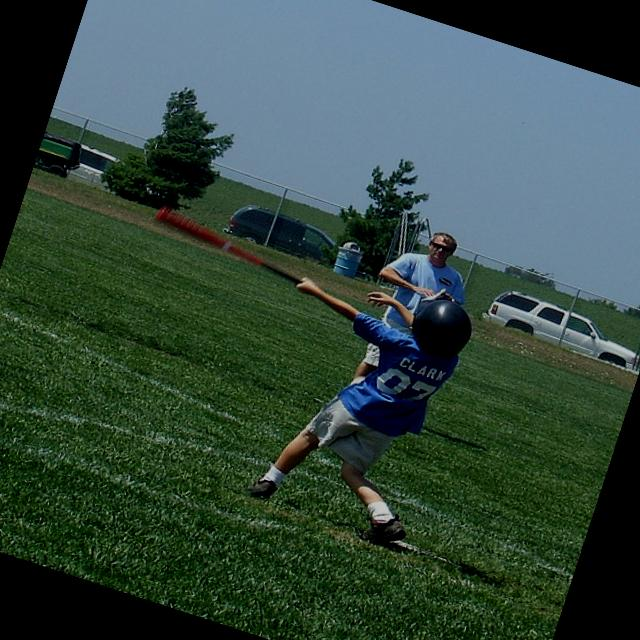Vehicle: (479, 282, 640, 372), (481, 283, 640, 370), (218, 193, 344, 271), (34, 116, 92, 180), (66, 142, 130, 198)
